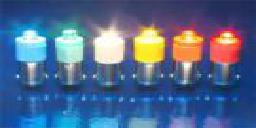LED: (207, 30, 242, 94), (53, 26, 87, 86), (90, 27, 125, 85), (131, 26, 165, 85), (172, 27, 203, 91), (14, 25, 46, 85)
